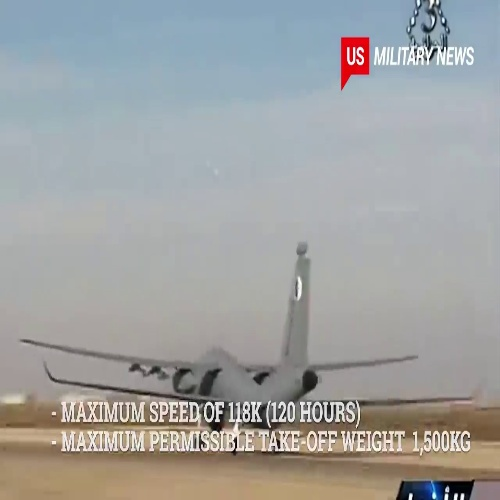uav503: (16, 240, 474, 454)
